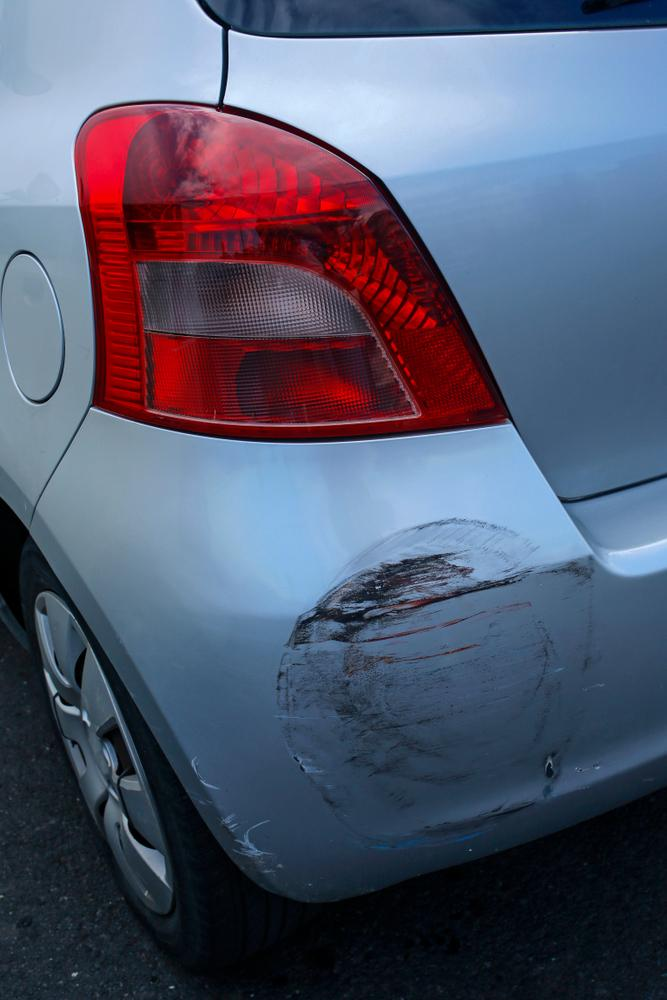scratch: (271, 515, 609, 853), (188, 763, 279, 880)
